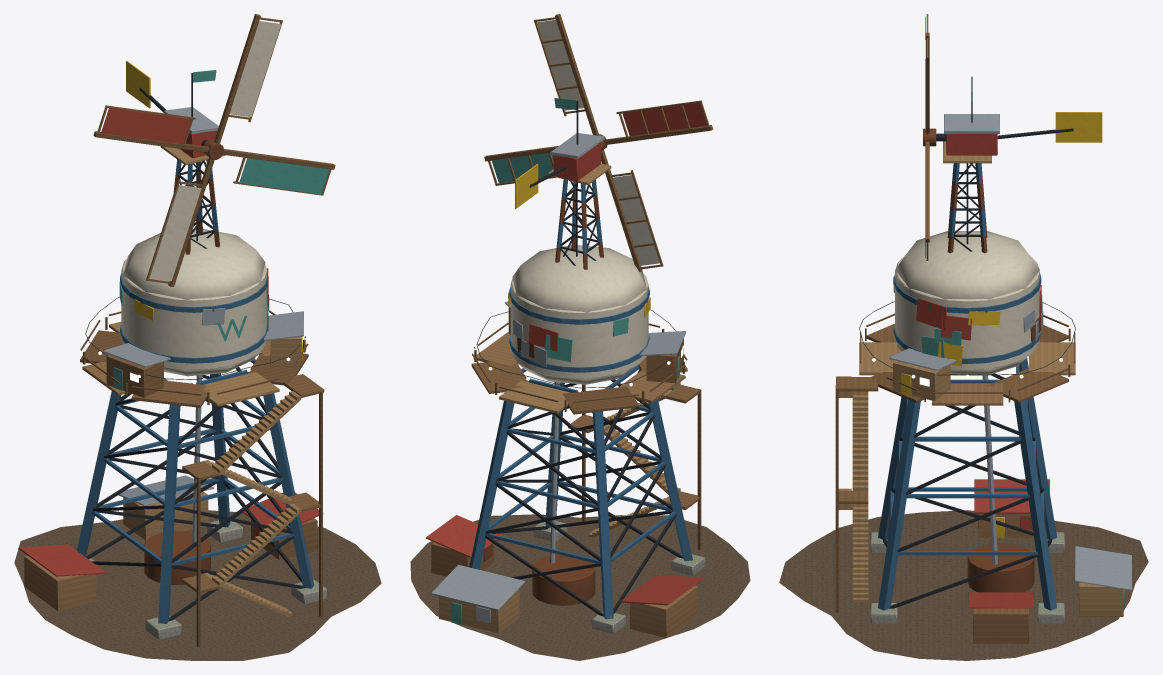
Rendered from landmark_windmill_tower.glb.
3 views of the same model, side by side, from view 1: azimuth 30°, elevation 25°; view 2: azimuth 150°, elevation 25°; view 3: azimuth 270°, elevation 25° (orthographic). The views are drawn at different scales.
Visible parts, largest first — view 1: landmark_windmill_tower; view 2: landmark_windmill_tower; view 3: landmark_windmill_tower.
Part boxes in pixels (bbox=[...]): landmark_windmill_tower: bbox=[14, 14, 381, 660]; landmark_windmill_tower: bbox=[410, 14, 750, 660]; landmark_windmill_tower: bbox=[779, 14, 1148, 660].
Size of what is drawn, in the model's own units: 32 by 56.78 by 33.17.
27 materials, 25 textured.
